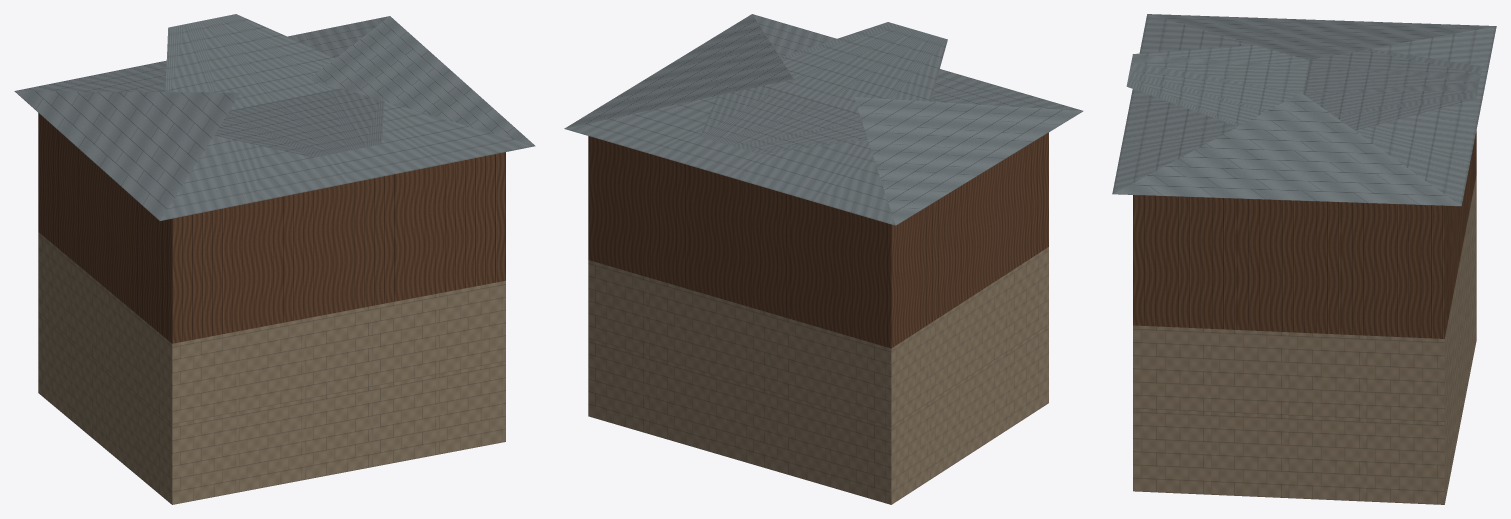
Rendered from bld_c-7_-7_631.gltf.
3 renders of one model, left to right at view 1: azimuth 30°, elevation 25°; view 2: azimuth 150°, elevation 25°; view 3: azimuth 270°, elevation 25°, orthographic. The views are drawn at different scales.
Parts seen in each view (by area): view 1: bld_c-7_-7_631; view 2: bld_c-7_-7_631; view 3: bld_c-7_-7_631.
Boxes of the visible parts, x1,y1,x2,y2 form: bld_c-7_-7_631: (14, 14, 535, 504); bld_c-7_-7_631: (564, 14, 1083, 504); bld_c-7_-7_631: (1112, 14, 1496, 504).
Bounding box in the file's own units: 12.23 × 10.1 × 10.33.
3 materials, 3 textured.
